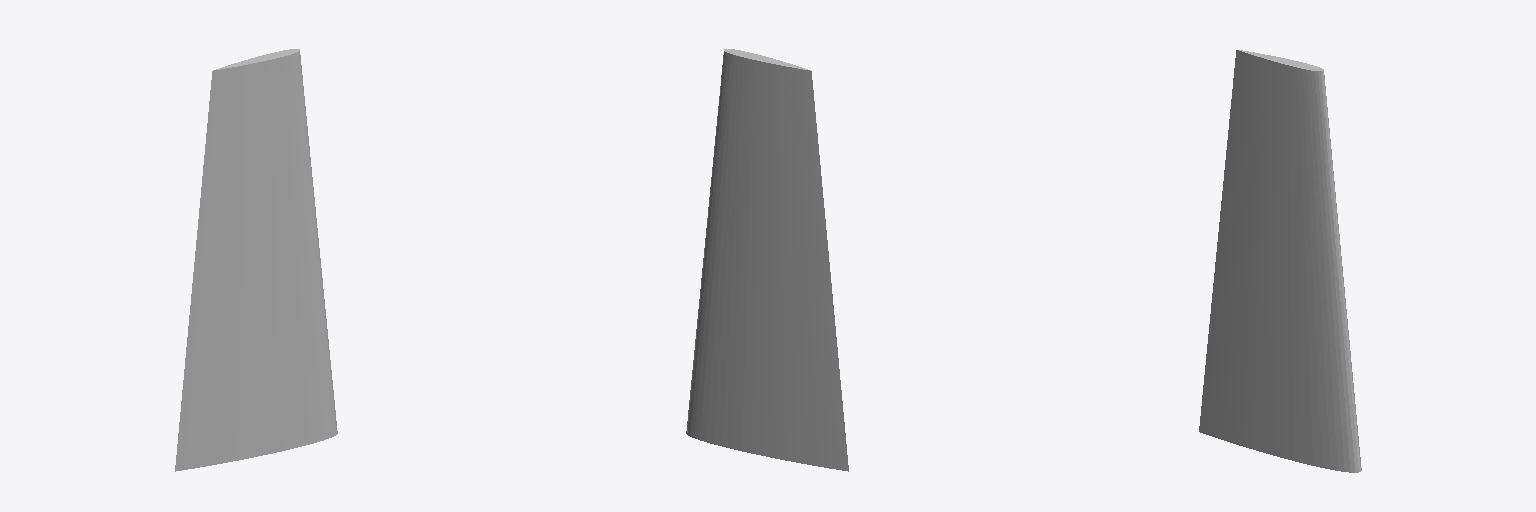
File: fin.obj
The picture shows the model from 3 angles: view 1: azimuth 30°, elevation 25°; view 2: azimuth 150°, elevation 25°; view 3: azimuth 330°, elevation 25°; orthographic projection.
Parts seen in each view (by area): view 1: SketchUp_ID2; view 2: SketchUp_ID2; view 3: SketchUp_ID2.
Boxes of the visible parts, <box> form: SketchUp_ID2: <box>175,49,337,471</box>; SketchUp_ID2: <box>686,49,848,471</box>; SketchUp_ID2: <box>1199,50,1361,472</box>.
Size of the model in its own units: 0.2925 by 0.675 by 0.0384.